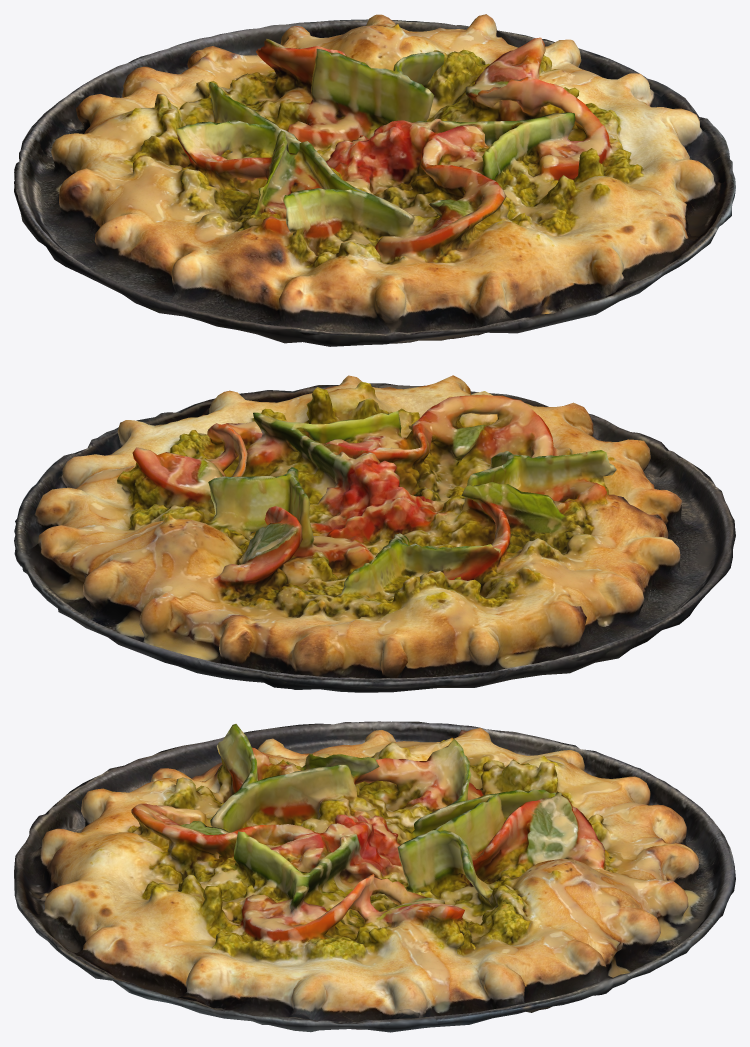
The model's file is manageeshFalafel.glb.
3 renders of one model, top to bottom at view 1: azimuth 30°, elevation 25°; view 2: azimuth 150°, elevation 25°; view 3: azimuth 270°, elevation 25°, orthographic.
Visible parts, largest first — view 1: ObjectCapture; view 2: ObjectCapture; view 3: ObjectCapture.
Boxes of the visible parts, left/top/right/bottom form: ObjectCapture: left=14, top=14, right=735, bottom=346; ObjectCapture: left=14, top=375, right=735, bottom=692; ObjectCapture: left=14, top=721, right=735, bottom=1032.
Size of the model in its own units: 0.3039 by 0.0496 by 0.3042.
1 material, 1 textured.
